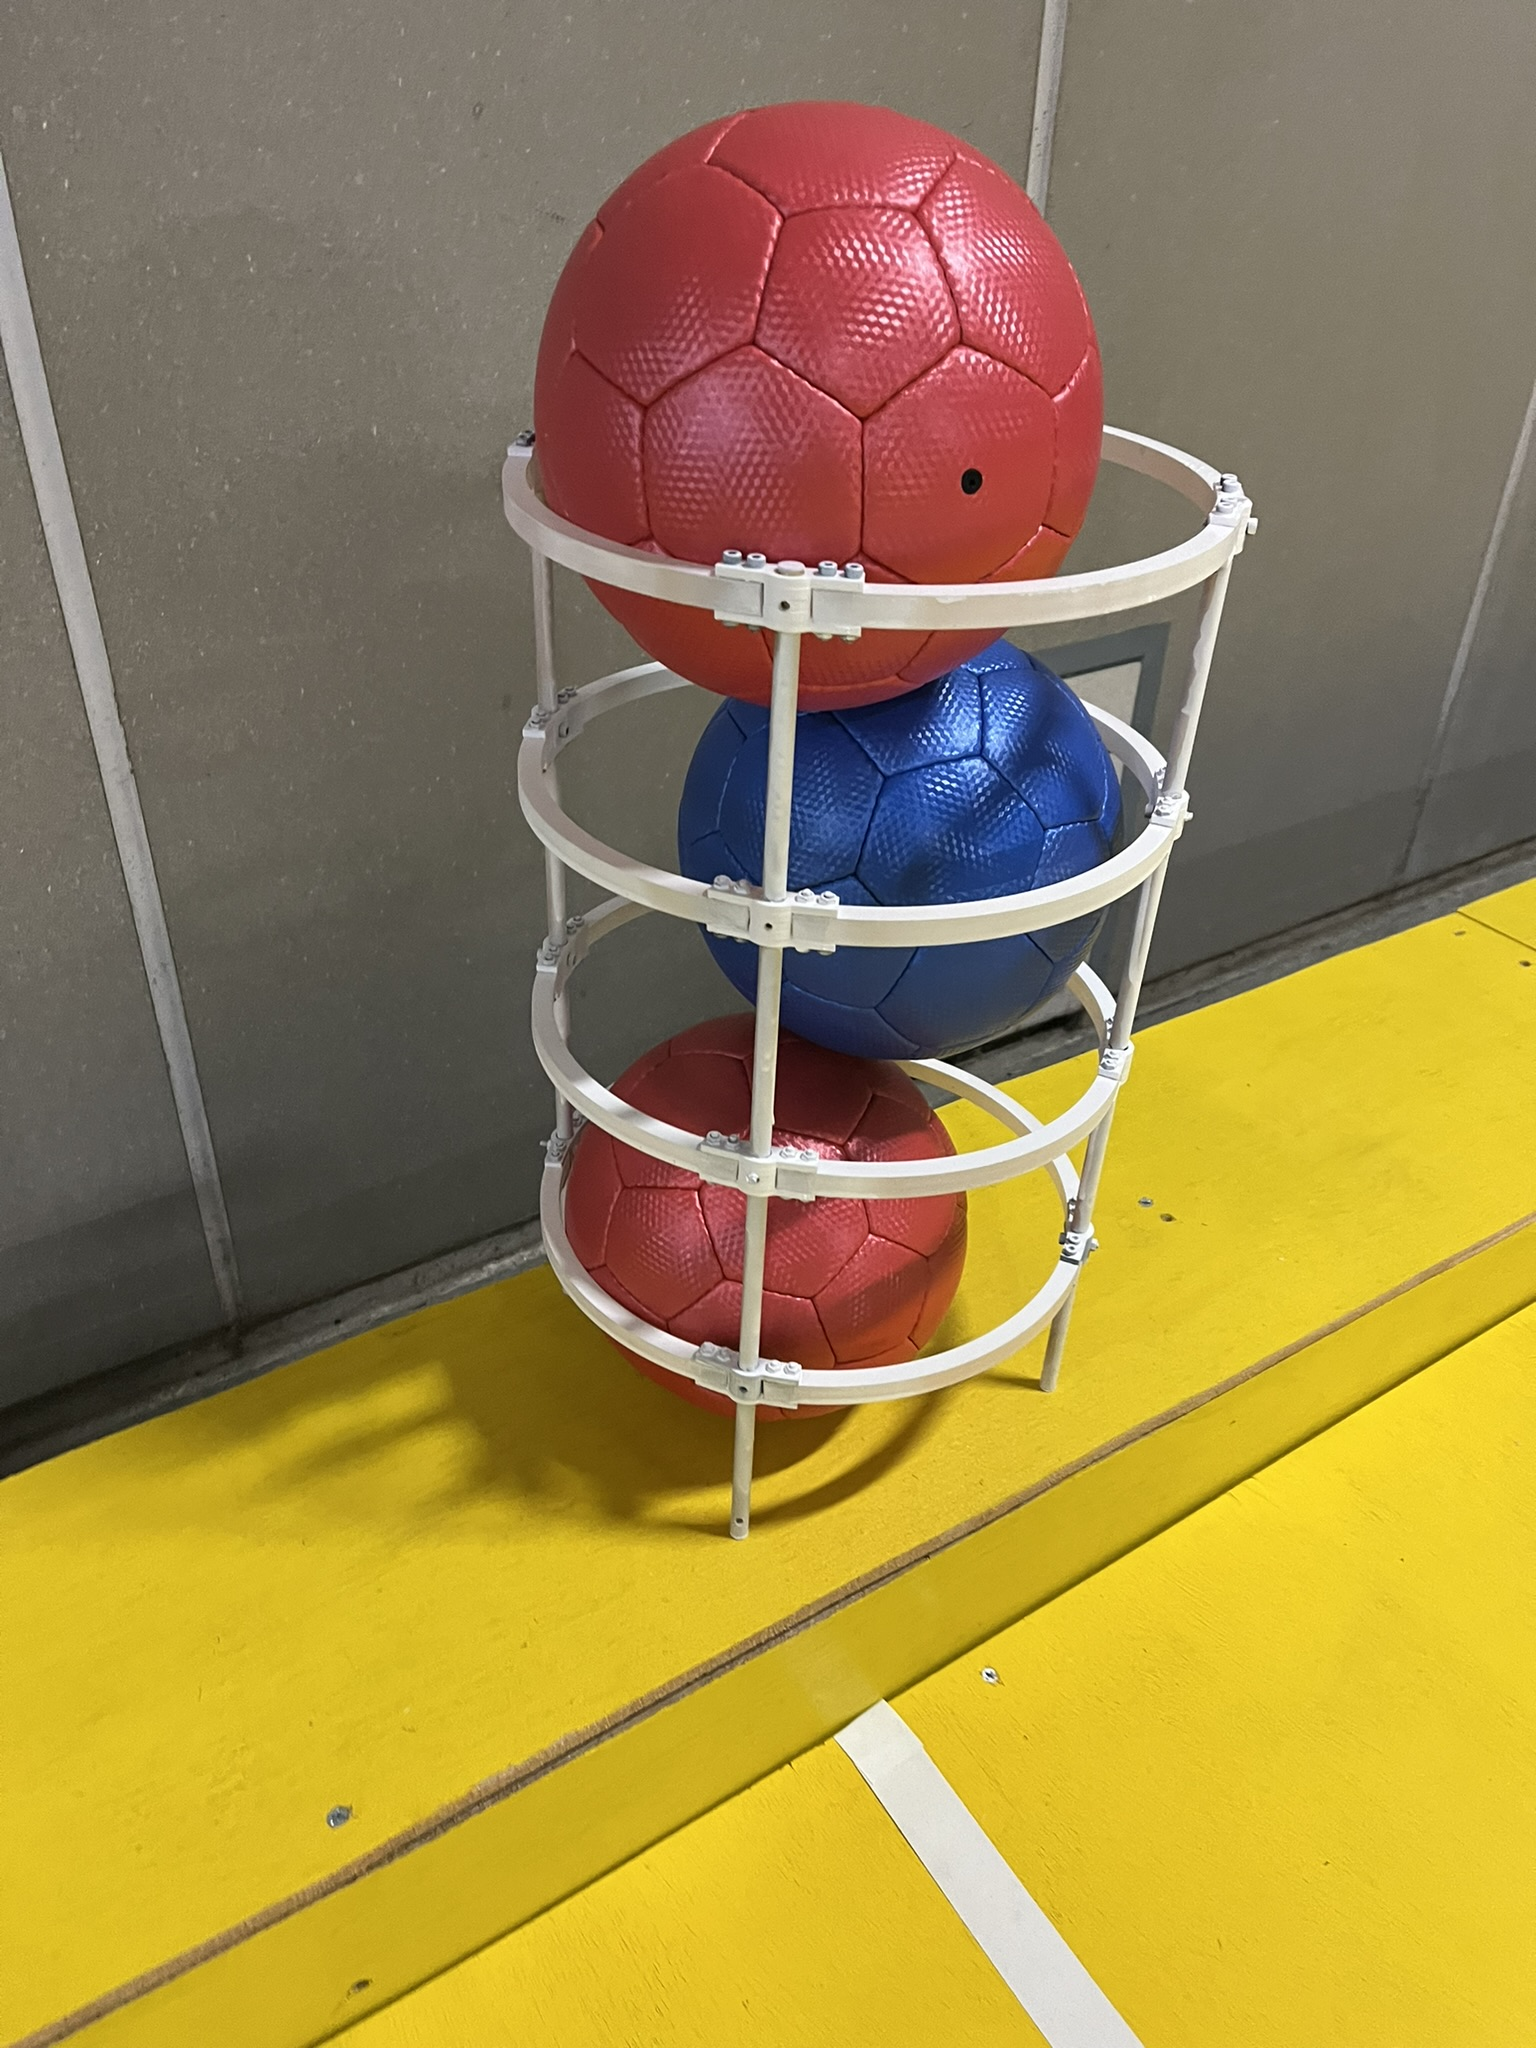blue: (660, 589, 1149, 1059)
